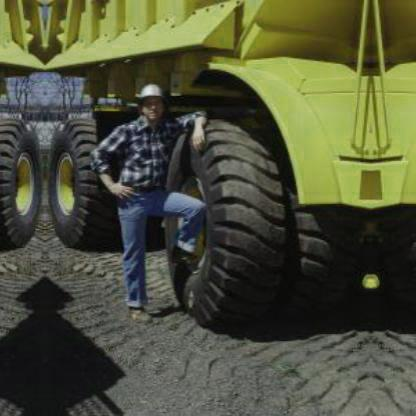Helmet: (136, 79, 168, 125)
